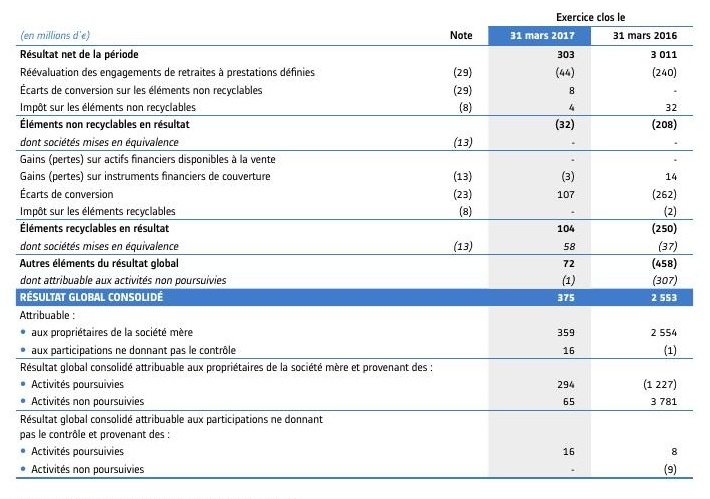table: (0, 0, 710, 499)
